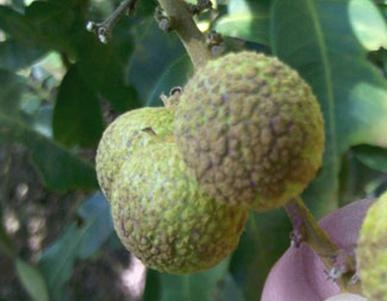Frost_Blight: (154, 80, 308, 203)
